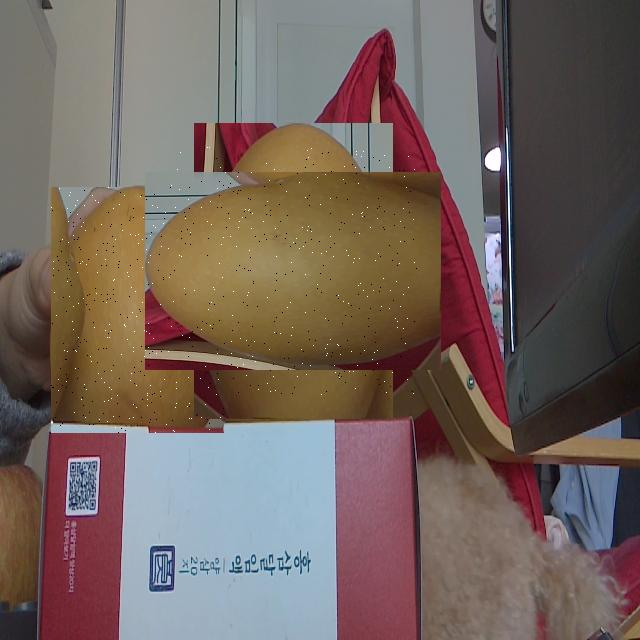pear: (170, 147, 417, 395), (51, 187, 224, 433)
